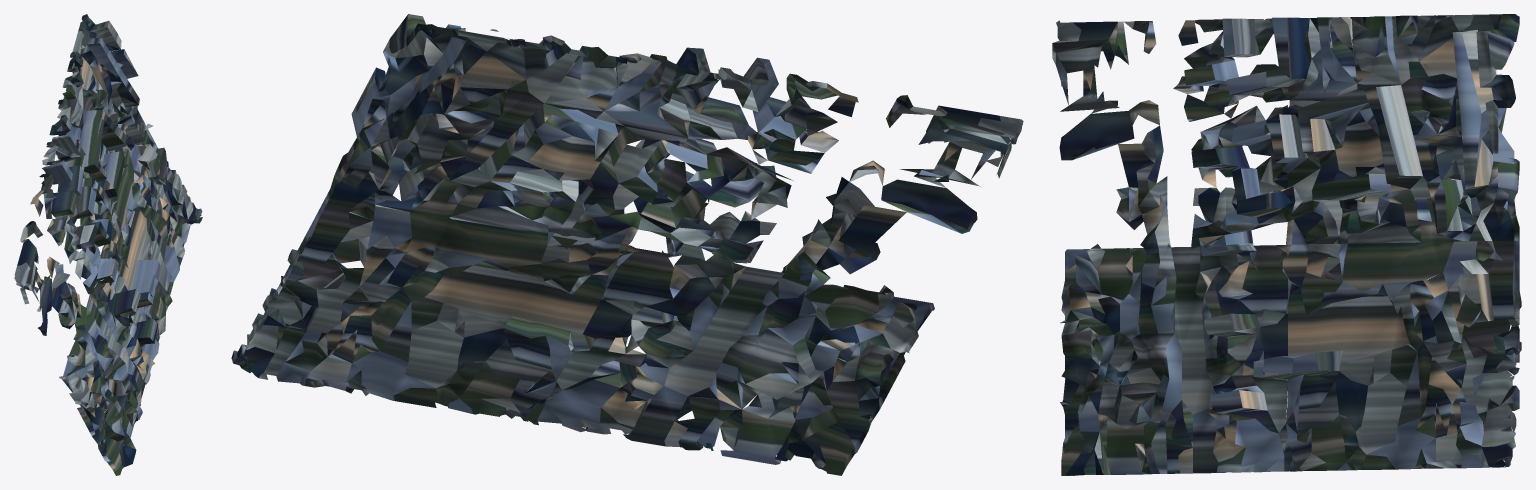
3 views of the same model, side by side, from view 1: azimuth 30°, elevation 25°; view 2: azimuth 150°, elevation 25°; view 3: azimuth 270°, elevation 25° (orthographic). The views are drawn at different scales.
Visible parts, largest first — view 1: node_3043627270436151_mesh0, node_3043627270436151_mesh1; view 2: node_3043627270436151_mesh0, node_3043627270436151_mesh1; view 3: node_3043627270436151_mesh0, node_3043627270436151_mesh1.
Part boxes in pixels (bbox=[...]): node_3043627270436151_mesh0: bbox=[14, 14, 202, 475]; node_3043627270436151_mesh1: bbox=[25, 20, 202, 430]; node_3043627270436151_mesh0: bbox=[231, 14, 1023, 475]; node_3043627270436151_mesh1: bbox=[232, 24, 1004, 439]; node_3043627270436151_mesh0: bbox=[1052, 14, 1519, 475]; node_3043627270436151_mesh1: bbox=[1060, 14, 1521, 473].
Bounding box in the file's own units: 586 × 583 × 452.
2 materials, 2 textured.
